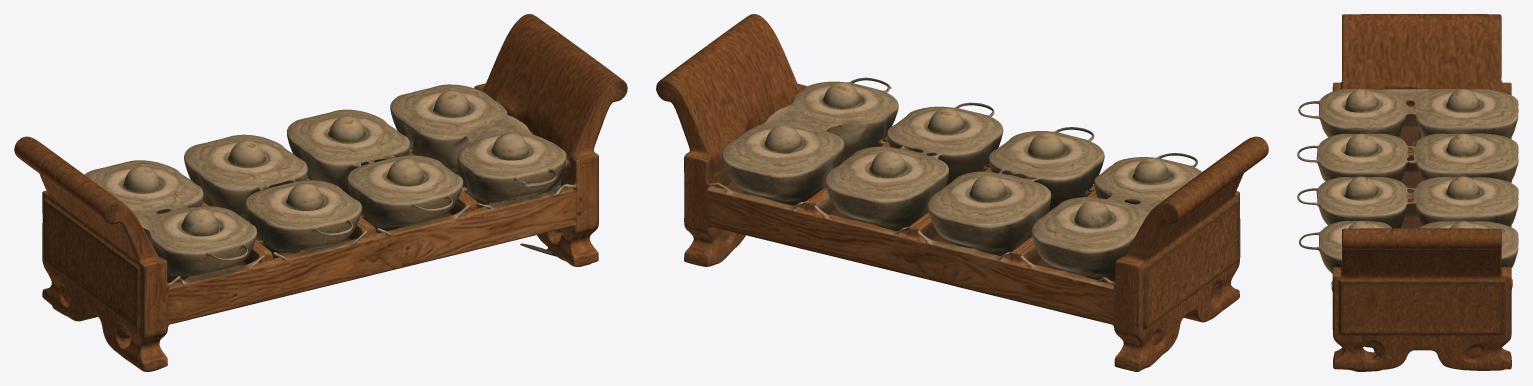
Rendered from bonang.glb.
3 renders of one model, left to right at view 1: azimuth 30°, elevation 25°; view 2: azimuth 150°, elevation 25°; view 3: azimuth 270°, elevation 25°, orthographic. The views are drawn at different scales.
Visible parts, largest first — view 1: mesh_node; view 2: mesh_node; view 3: mesh_node.
Part boxes in pixels (x1,y1,x2,y2): mesh_node: (14, 14, 627, 371); mesh_node: (656, 14, 1268, 371); mesh_node: (1297, 14, 1518, 371).
Size of the model in its own units: 1.9 by 0.6146 by 0.7952.
1 material, 1 textured.
